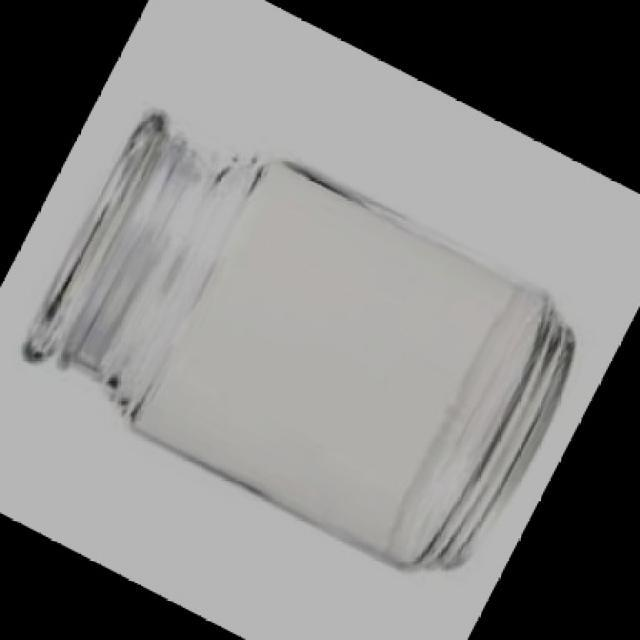Glass: (22, 107, 576, 578)
